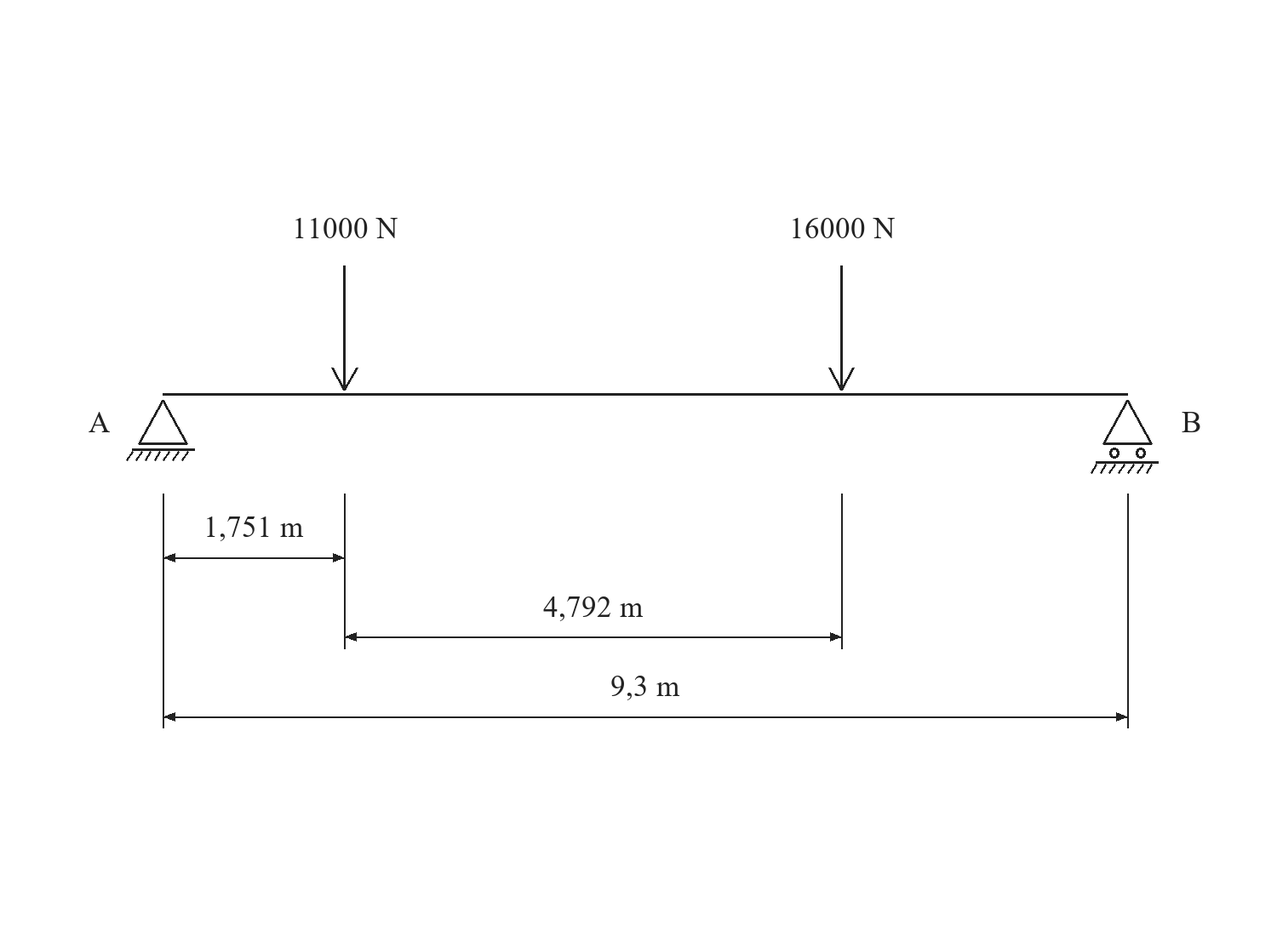pin_support: (126, 400, 195, 461)
point_load: (331, 265, 358, 391), (828, 265, 855, 391)
roller_support: (1091, 400, 1159, 474)
